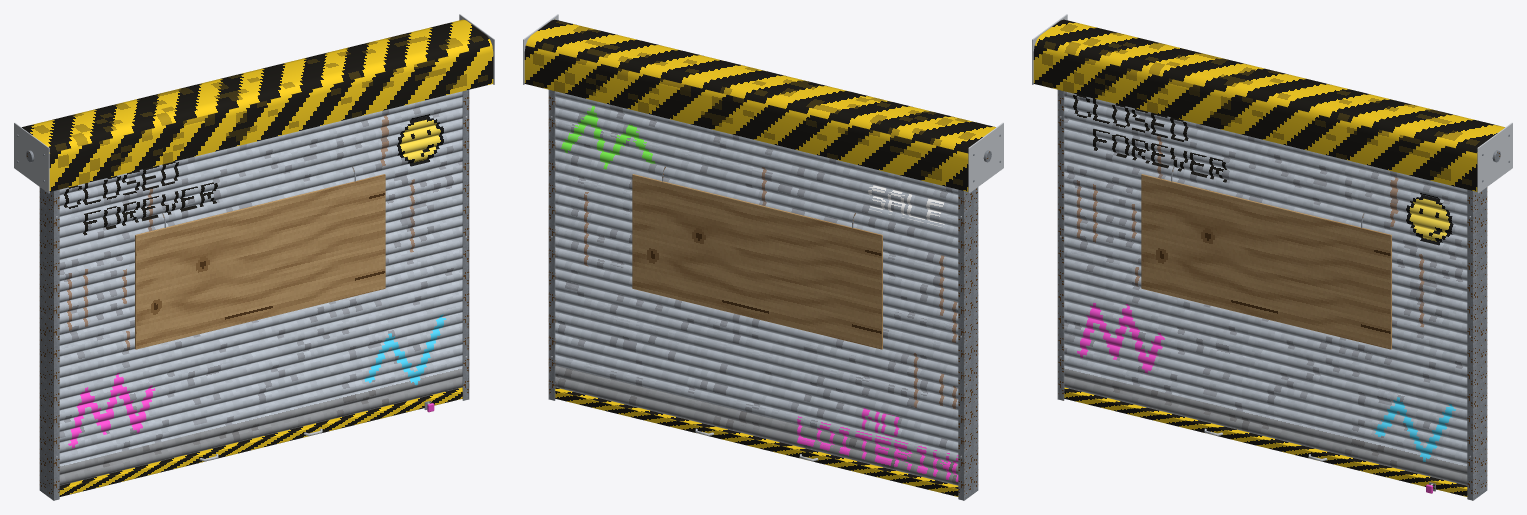
The model's file is x_zmshutter.glb.
The picture shows the model from 3 angles, left to right: view 1: azimuth 30°, elevation 25°; view 2: azimuth 150°, elevation 25°; view 3: azimuth 330°, elevation 25°; orthographic projection.
Visible parts, largest first — view 1: curtain, frame; view 2: curtain, frame; view 3: curtain, frame.
Boxes of the visible parts, x1,y1,x2,y2 form: curtain: (59, 91, 462, 496); frame: (14, 14, 494, 500); curtain: (555, 91, 958, 496); frame: (523, 14, 1003, 500); curtain: (1064, 91, 1467, 496); frame: (1032, 14, 1512, 500).
Size of the model in its own units: 4.33 by 3.34 by 0.58.
7 materials, 4 textured.
